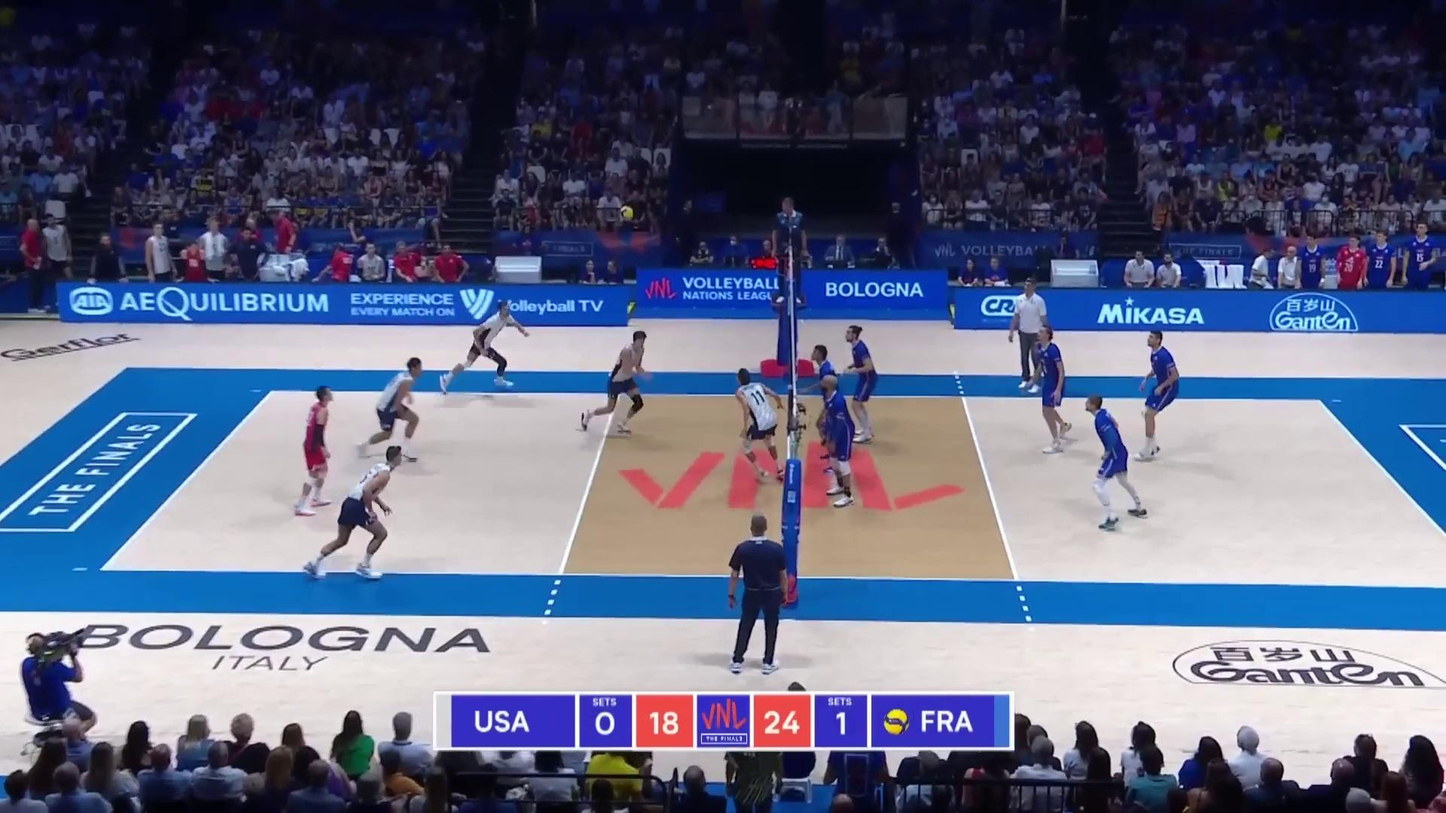player: (303, 446, 403, 578), (1081, 396, 1148, 529), (439, 301, 529, 393), (579, 330, 648, 437), (357, 356, 423, 460), (728, 368, 785, 483), (814, 372, 859, 509), (1027, 328, 1075, 453), (1136, 331, 1179, 463), (295, 387, 332, 513), (845, 324, 882, 446), (809, 344, 844, 463)
refree: (729, 515, 796, 672), (772, 197, 807, 303)
